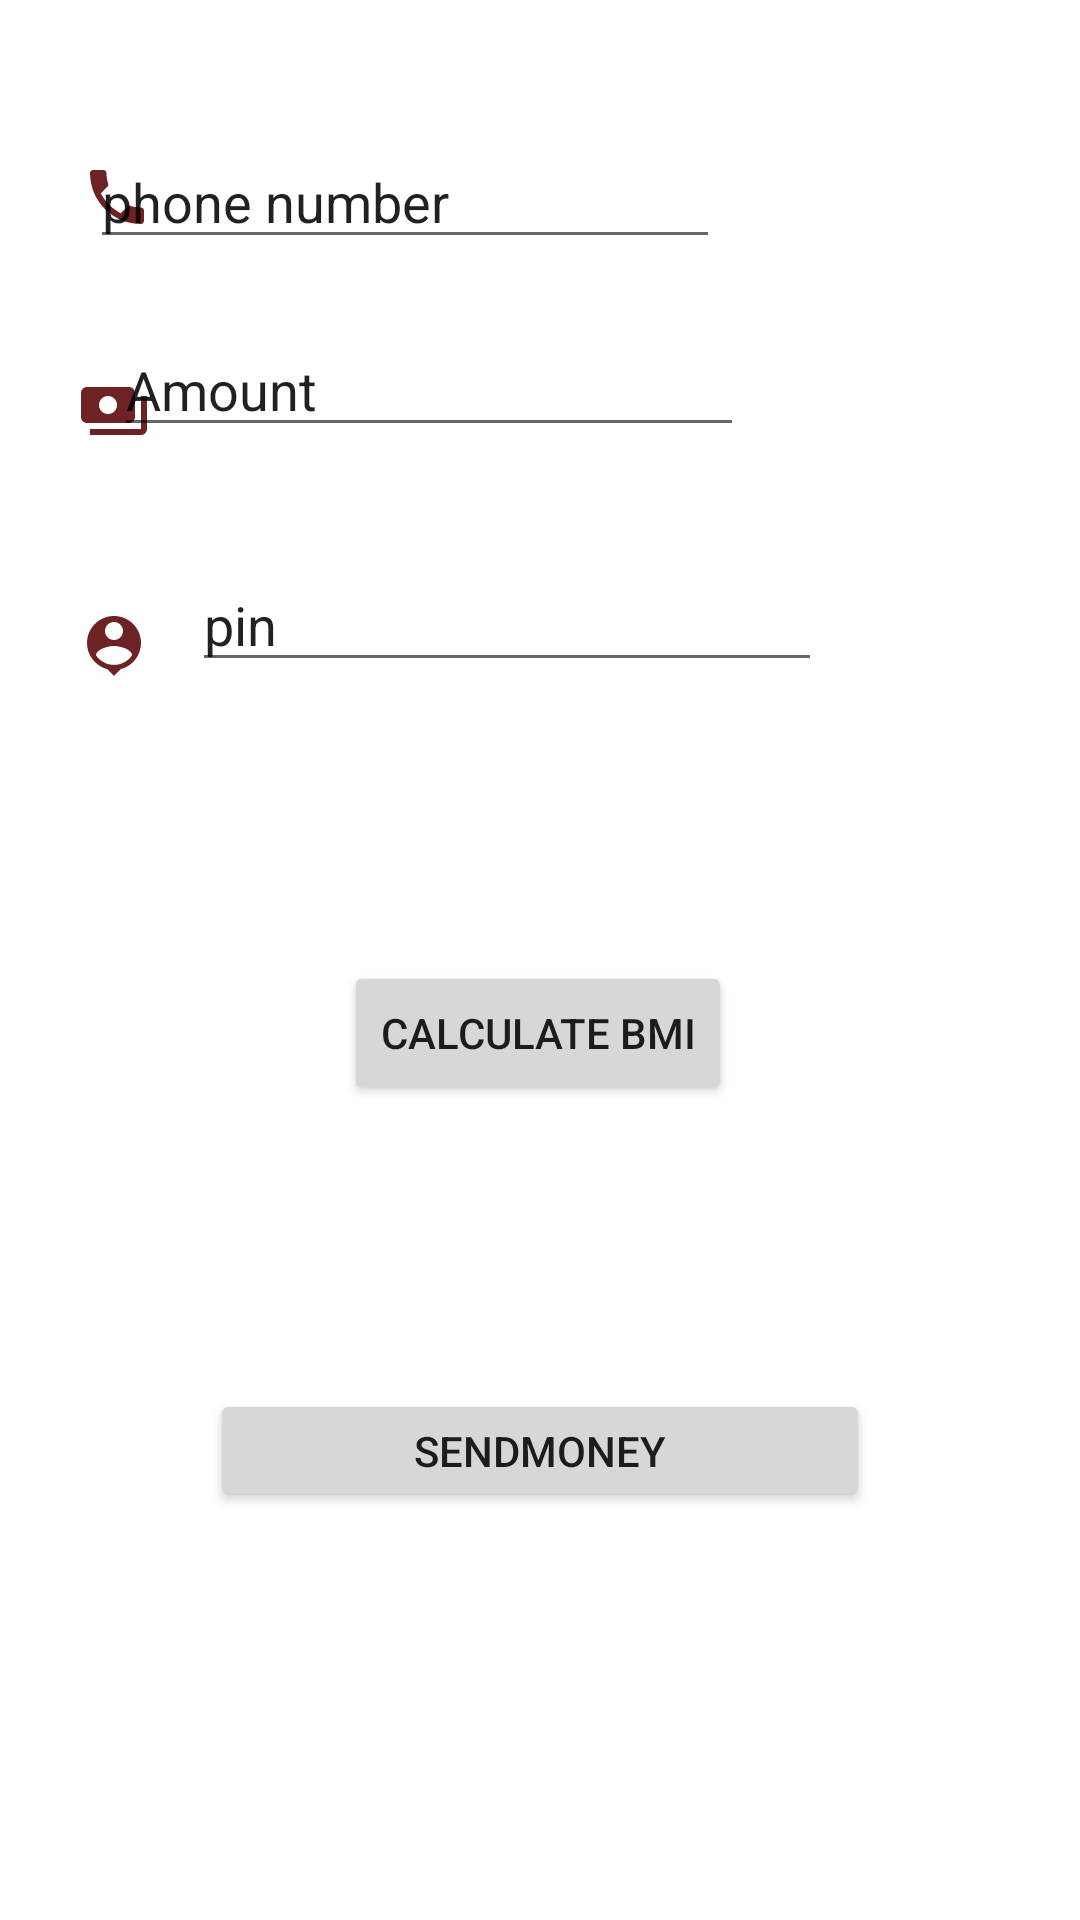

Named icons in this screenshot (1080w x 1920h) and their centers, [x,y]:
person pin: [114,646]
